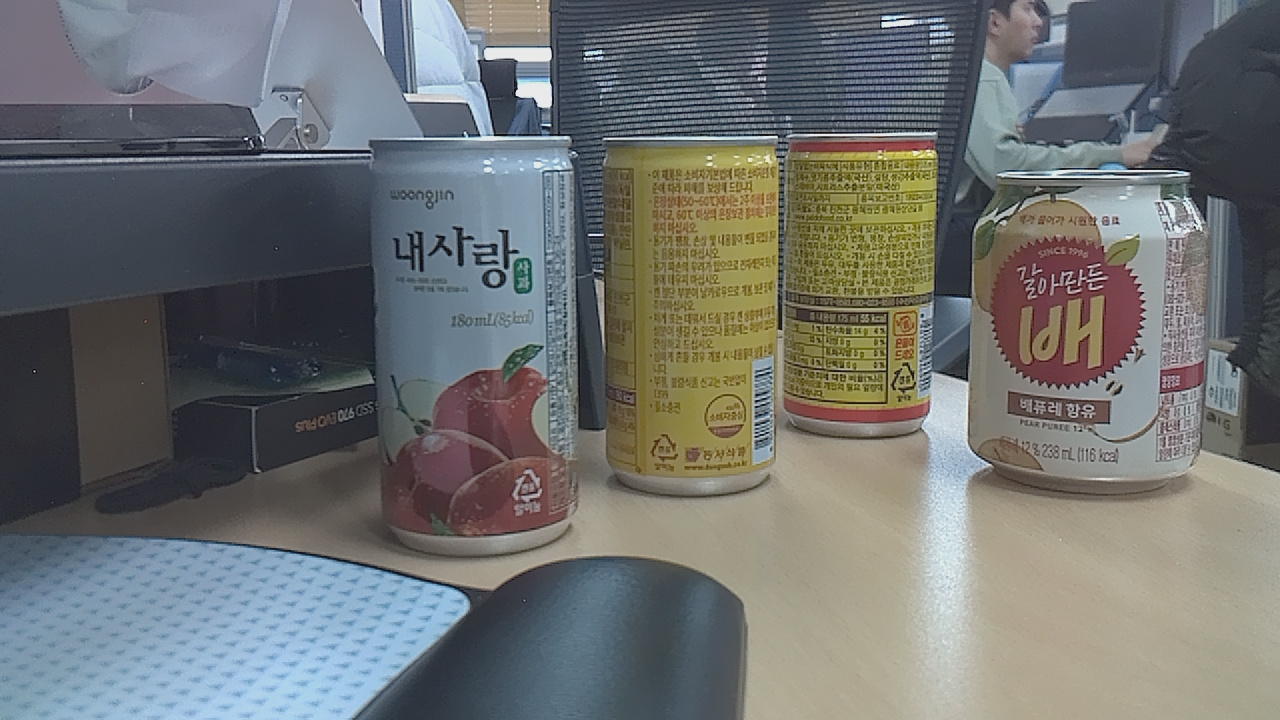IdH (pear juice): (970, 164, 1218, 506)
jetty: (601, 141, 785, 503)
mylove apple: (347, 132, 587, 565)
paldo shikhye: (783, 127, 952, 452)
